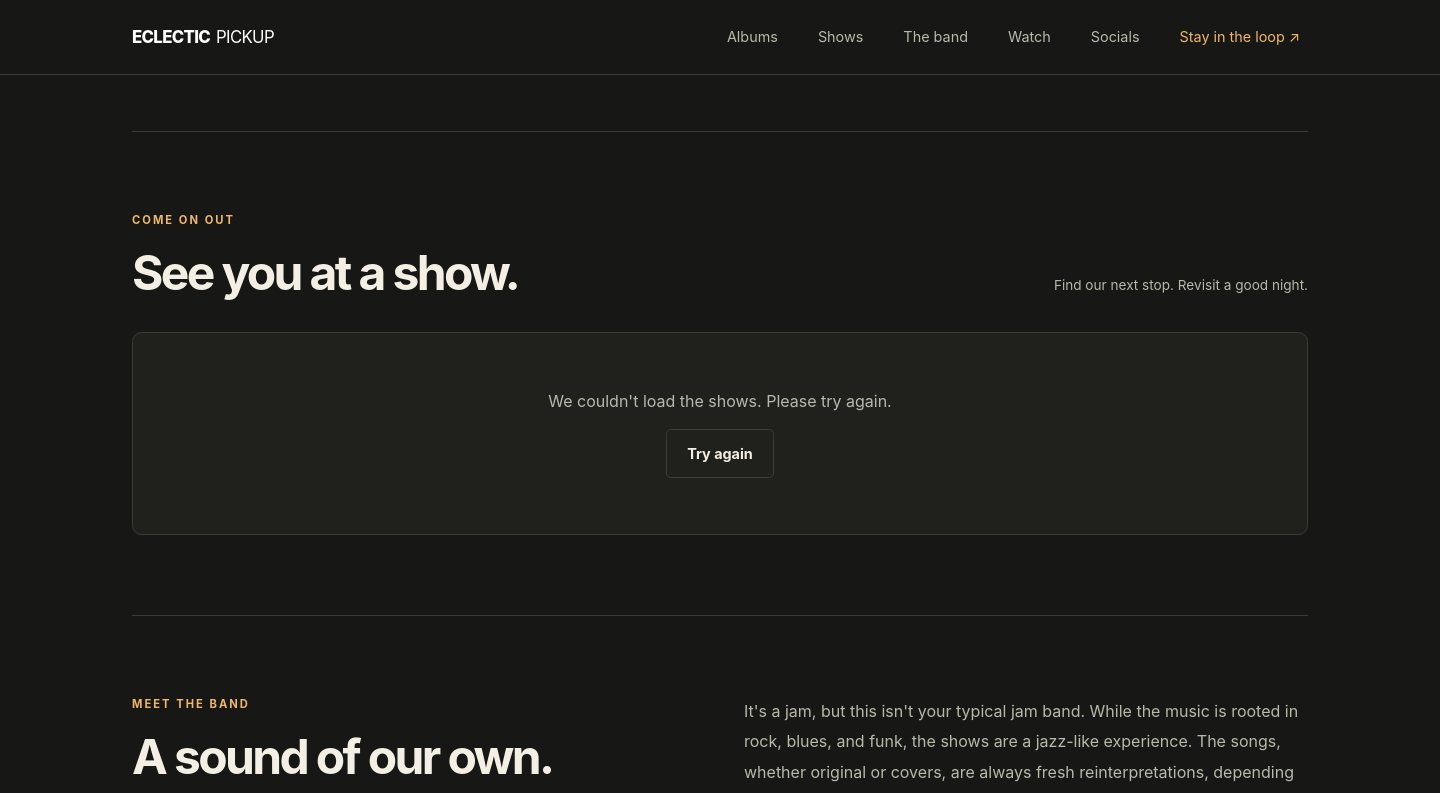
Test: reports shows fetch errors and retries instead of claiming there are no shows
(page scrolled)
Expected: the message shows "We couldn't load the shows.", [548,391,892,411]
Click the button "Try again".
click(720, 453)  # box [666,429,774,478]
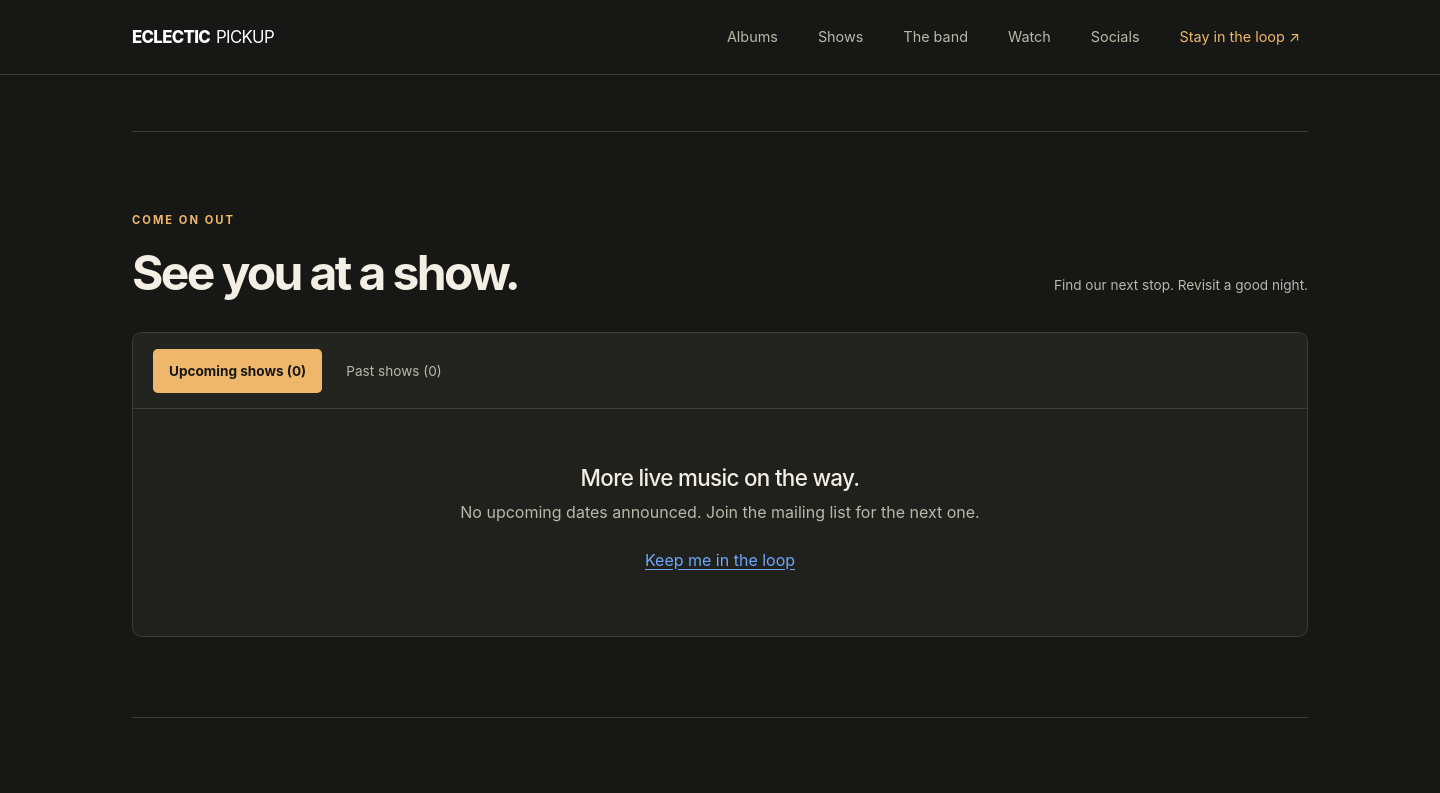
Expected: the message "We couldn't load the shows. Please try again. Try again" is gone
Expected: the tab "Upcoming shows (0)" is shown, [153,349,322,393]
